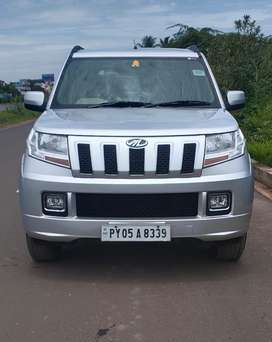PY05A8339: (101, 225, 170, 241)
